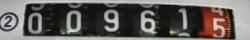digits: (210, 5, 226, 39), (140, 9, 157, 33), (103, 8, 119, 32), (65, 10, 81, 32), (27, 12, 43, 33), (178, 8, 188, 28)
